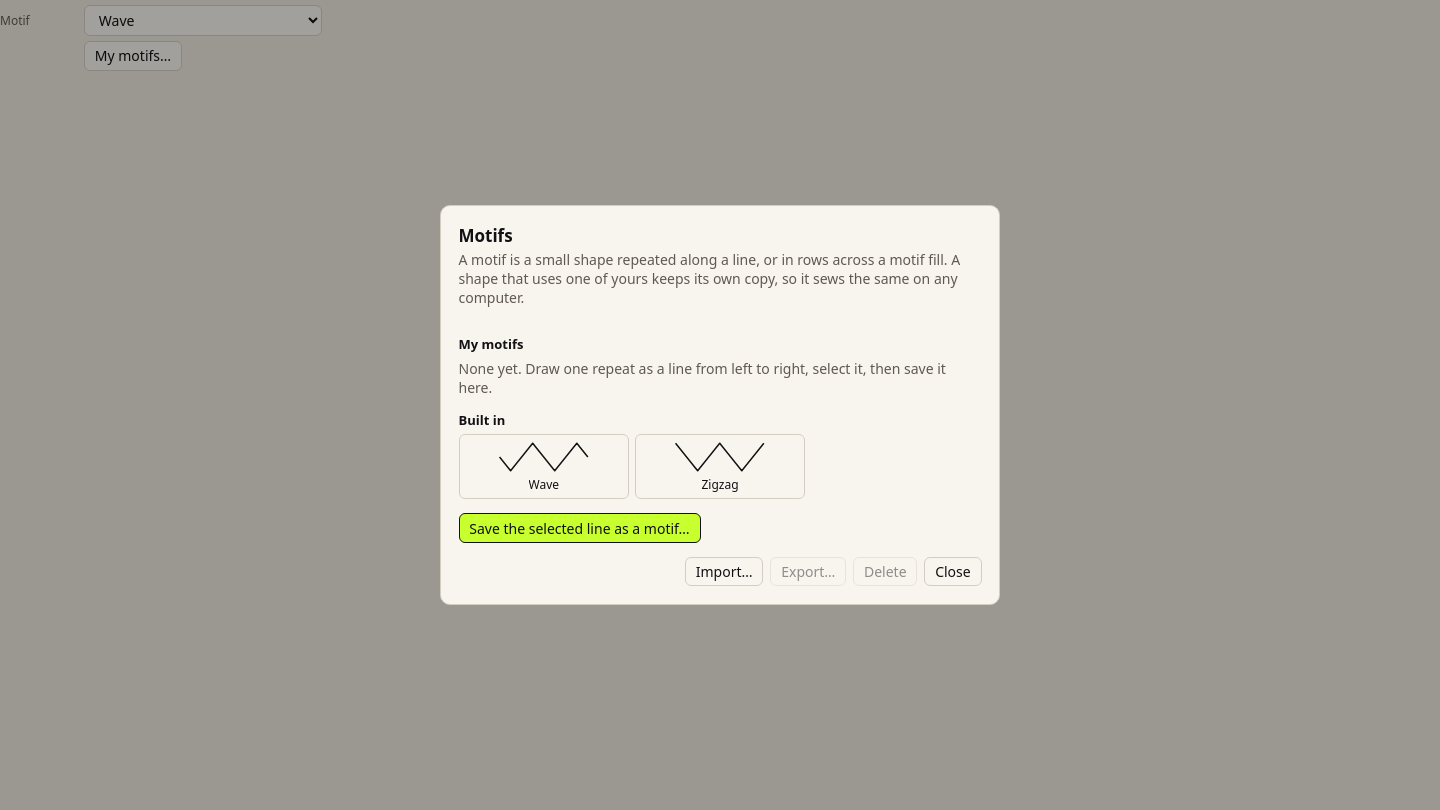
Scenario: the Motifs window › shows why the engine refused a line
The width and height of the screenshot is (1440, 810).
Click the button "Save the selected line as a motif…": {"x": 580, "y": 528} left=458, top=514, right=700, bottom=543
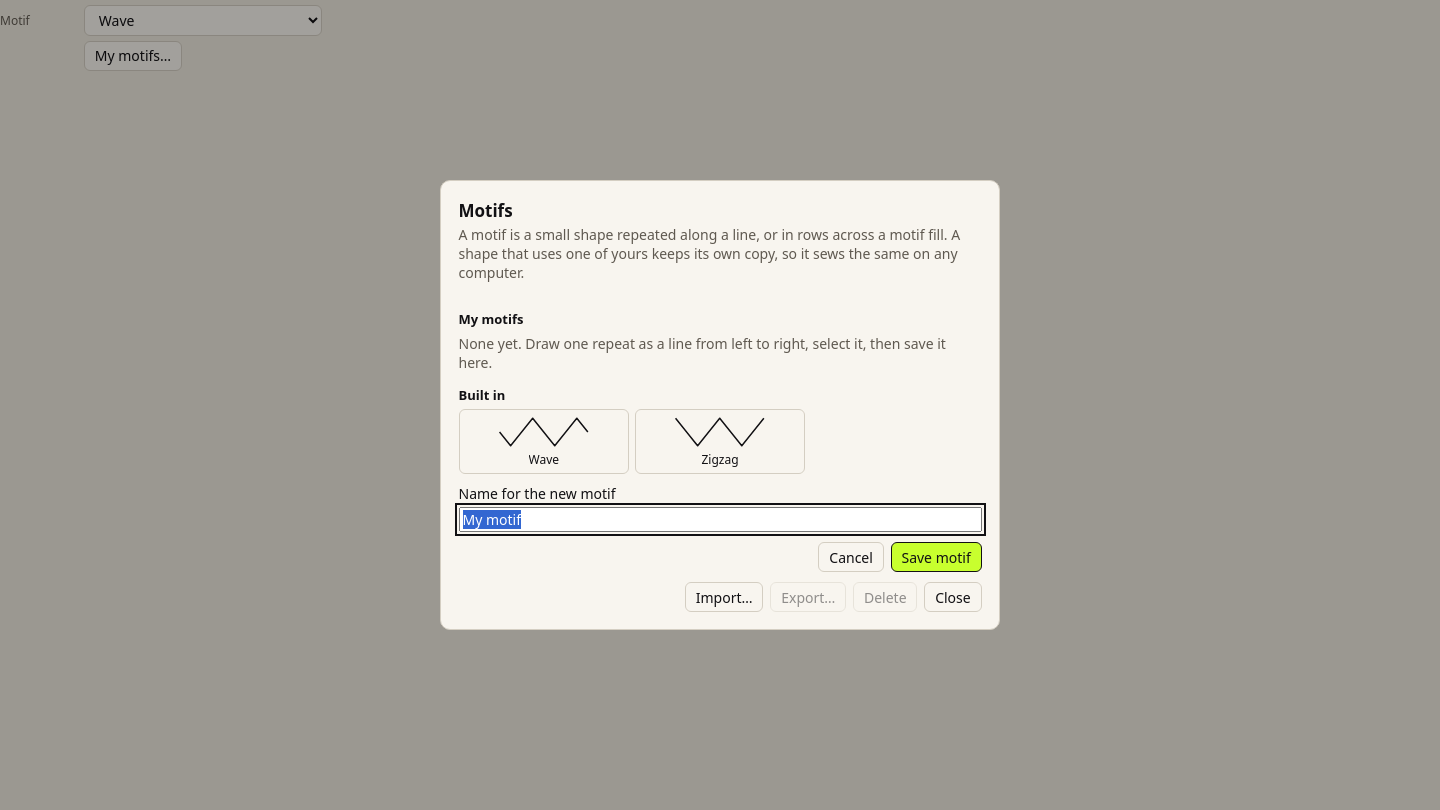
Press Enter in the field labelled "Name for the new motif", box left=458, top=507, right=982, bottom=532
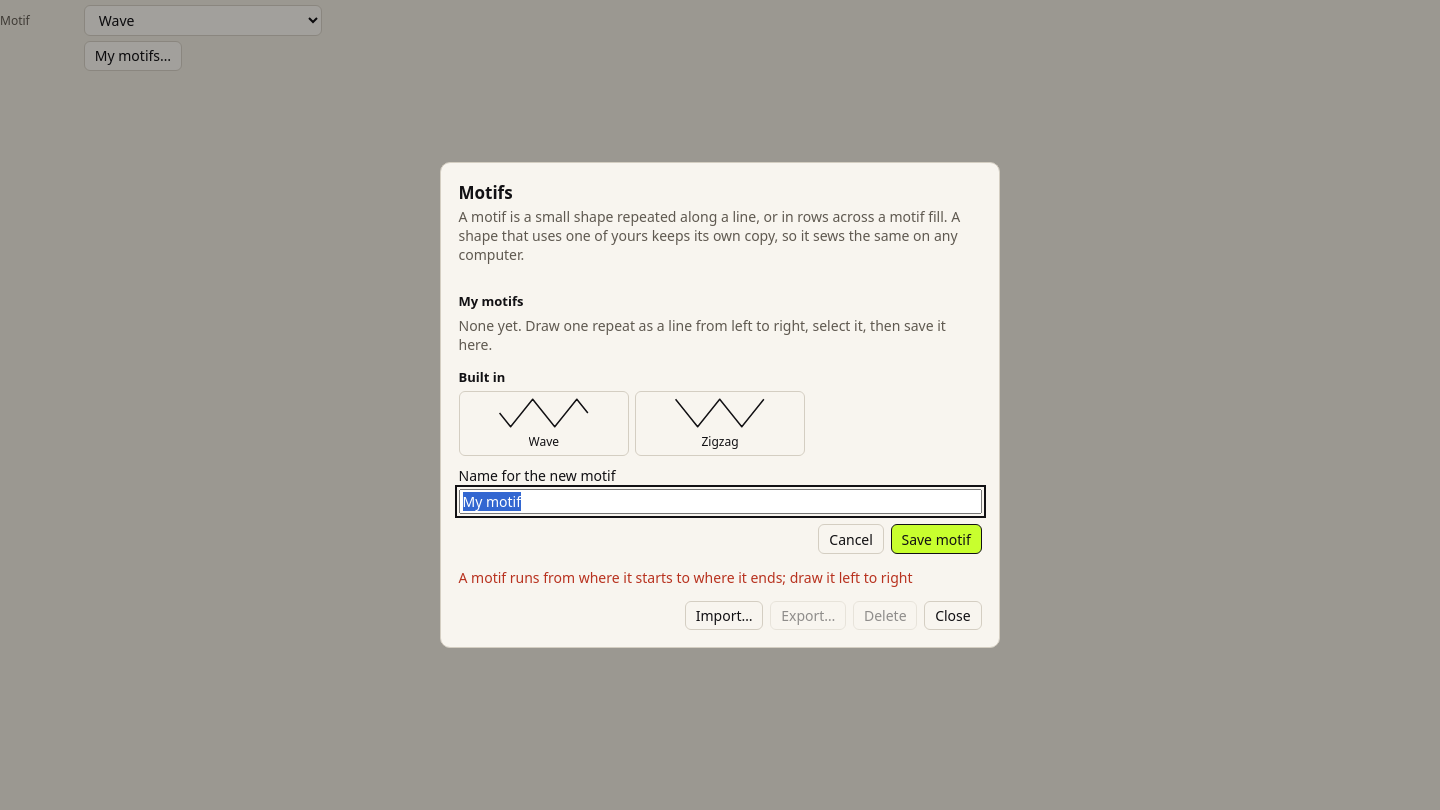
Result: the message "A motif runs from where it starts to where it ends; draw it left to right" is shown at left=458, top=568, right=982, bottom=587
